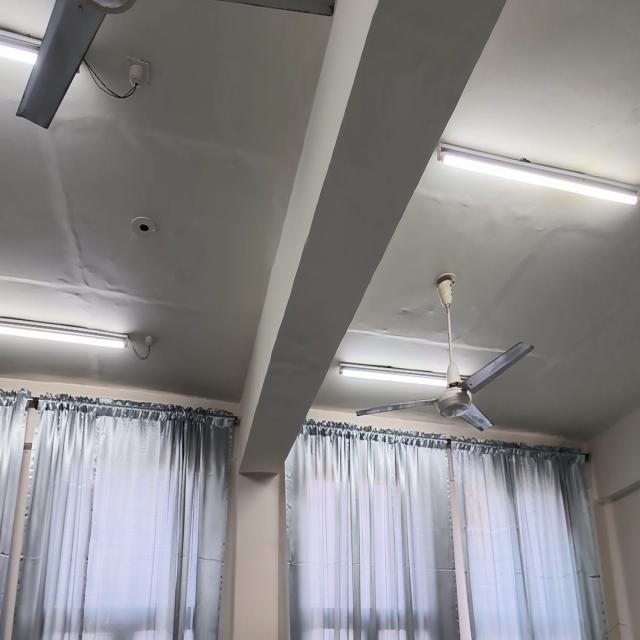Light: (436, 143, 640, 205), (0, 318, 128, 348), (339, 362, 448, 388), (0, 30, 40, 66)
